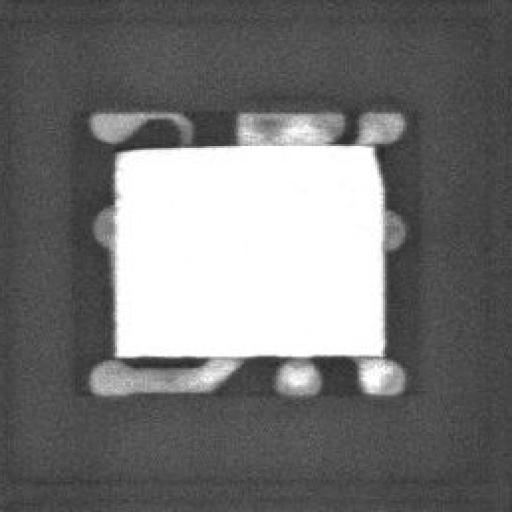DIE_BROKEN: (113, 142, 191, 152), (369, 144, 381, 190)
